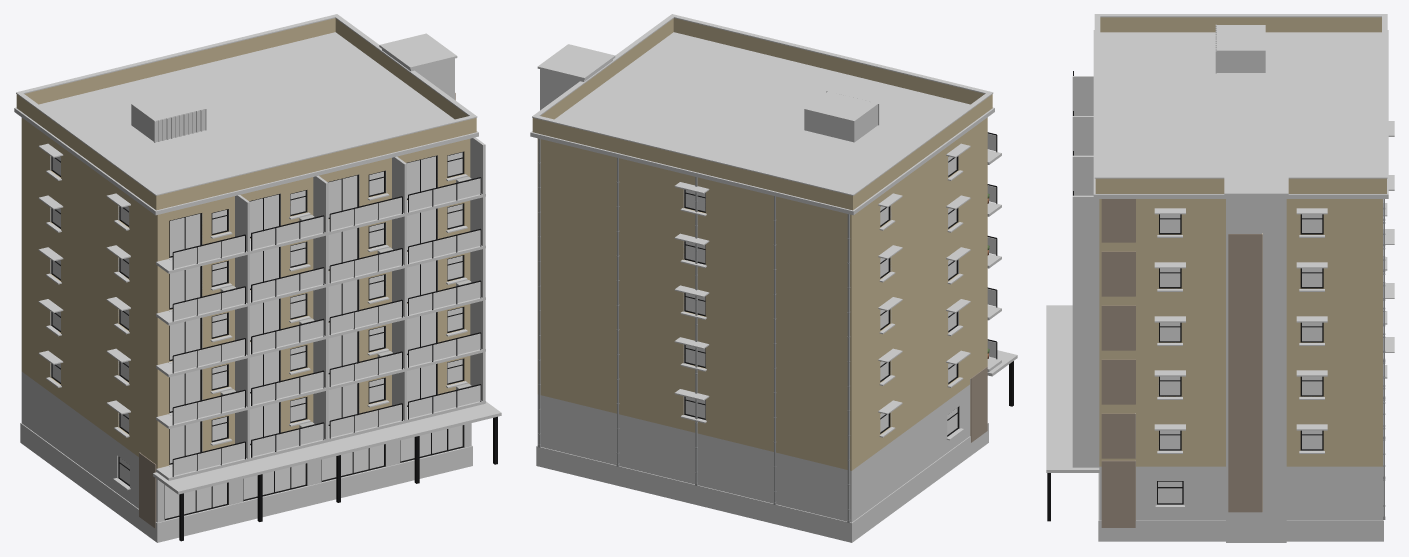
Rendered from apartment_20x15_6.glb.
3 views of the same model, side by side, from view 1: azimuth 30°, elevation 25°; view 2: azimuth 150°, elevation 25°; view 3: azimuth 270°, elevation 25° (orthographic). The views are drawn at different scales.
Parts seen in each view (by area): view 1: apartment_20x15_6; view 2: apartment_20x15_6; view 3: apartment_20x15_6.
Part boxes in pixels (x1=…): apartment_20x15_6: x1=14, y1=14, x2=501, y2=542; apartment_20x15_6: x1=530, y1=14, x2=1017, y2=542; apartment_20x15_6: x1=1046, y1=14, x2=1394, y2=542.
Bounding box in the file's own units: 23.53 × 22.35 × 18.41.
